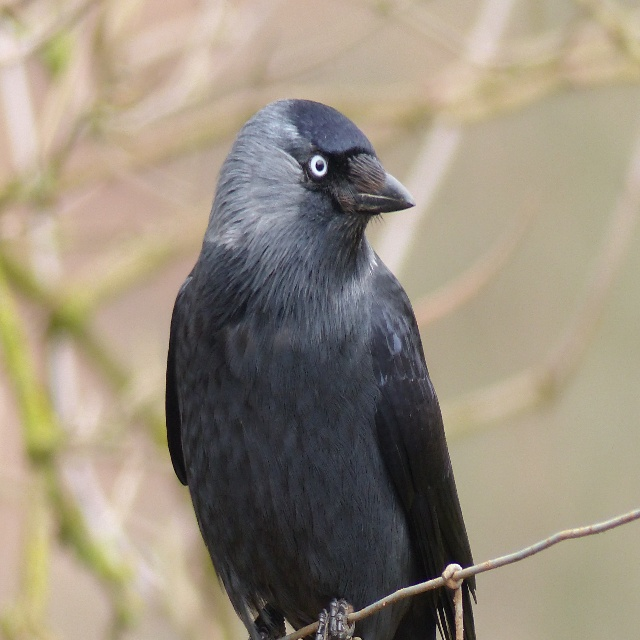Raven: (165, 98, 477, 640)
